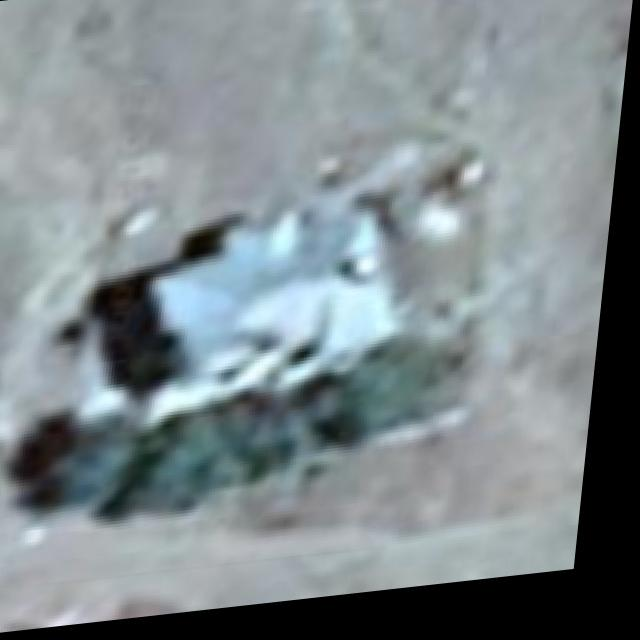Batiment: (17, 220, 465, 524)
